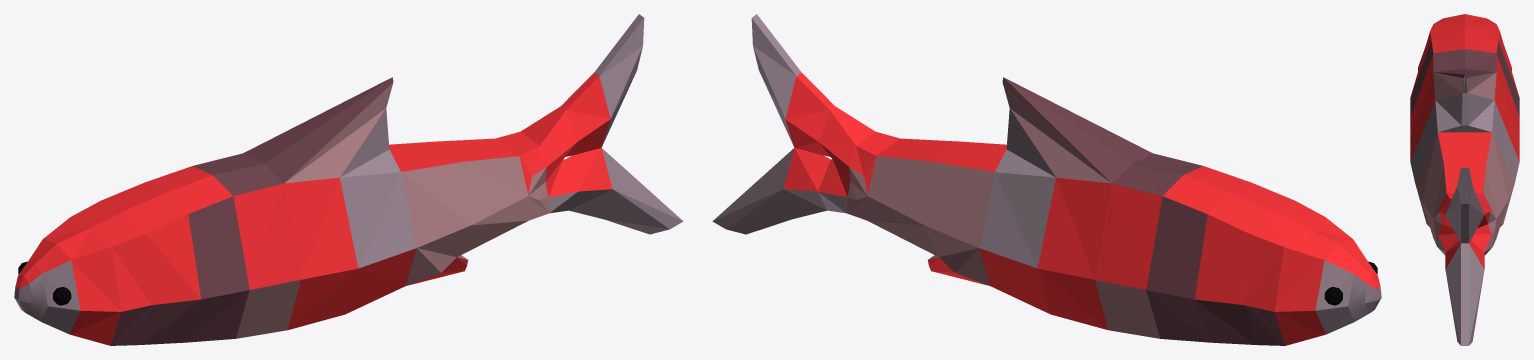
File: Fish.FBX
The picture shows the model from 3 angles, left to right: view 1: azimuth 30°, elevation 25°; view 2: azimuth 150°, elevation 25°; view 3: azimuth 270°, elevation 25°; orthographic projection. The views are drawn at different scales.
Visible parts, largest first — view 1: Rectangle002; view 2: Rectangle002; view 3: Rectangle002.
Part boxes in pixels (x1,y1,x2,y2): Rectangle002: (14,14,683,345); Rectangle002: (712,14,1381,345); Rectangle002: (1410,14,1519,345).
Size of the model in its own units: 1837 by 576 by 340.
